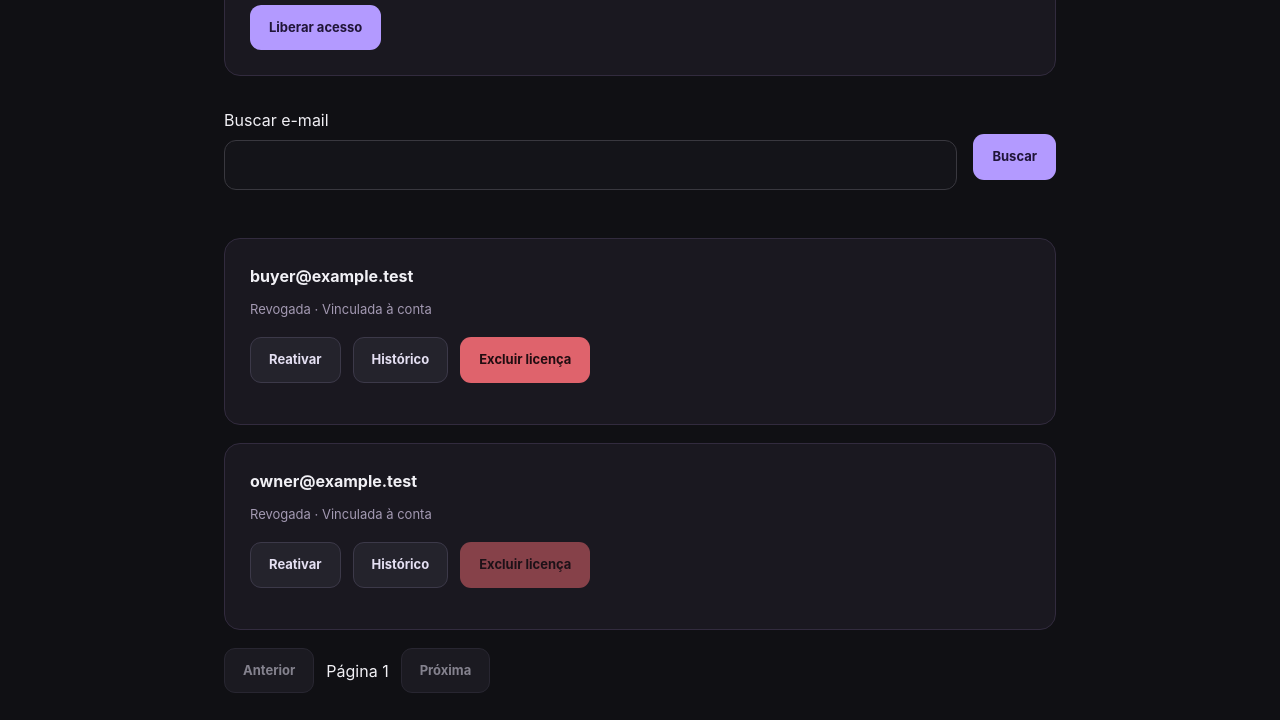
cancel does not delete and the administrator license cannot be selected
The image size is (1280, 720).
(page scrolled)
Click the button "Excluir licença" below "buyer@example.test" at (525,360), box [460,337,590,383]
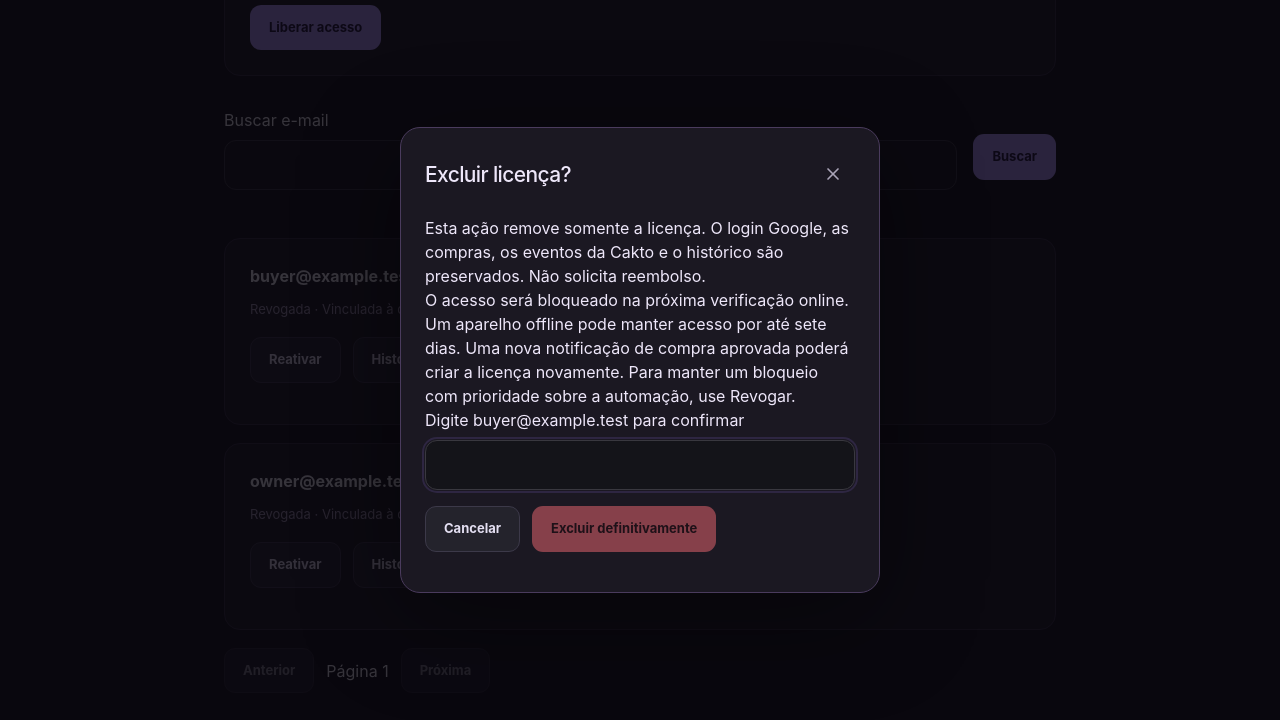
Click the button "Cancelar" at (472,529), box [425,506,520,552]
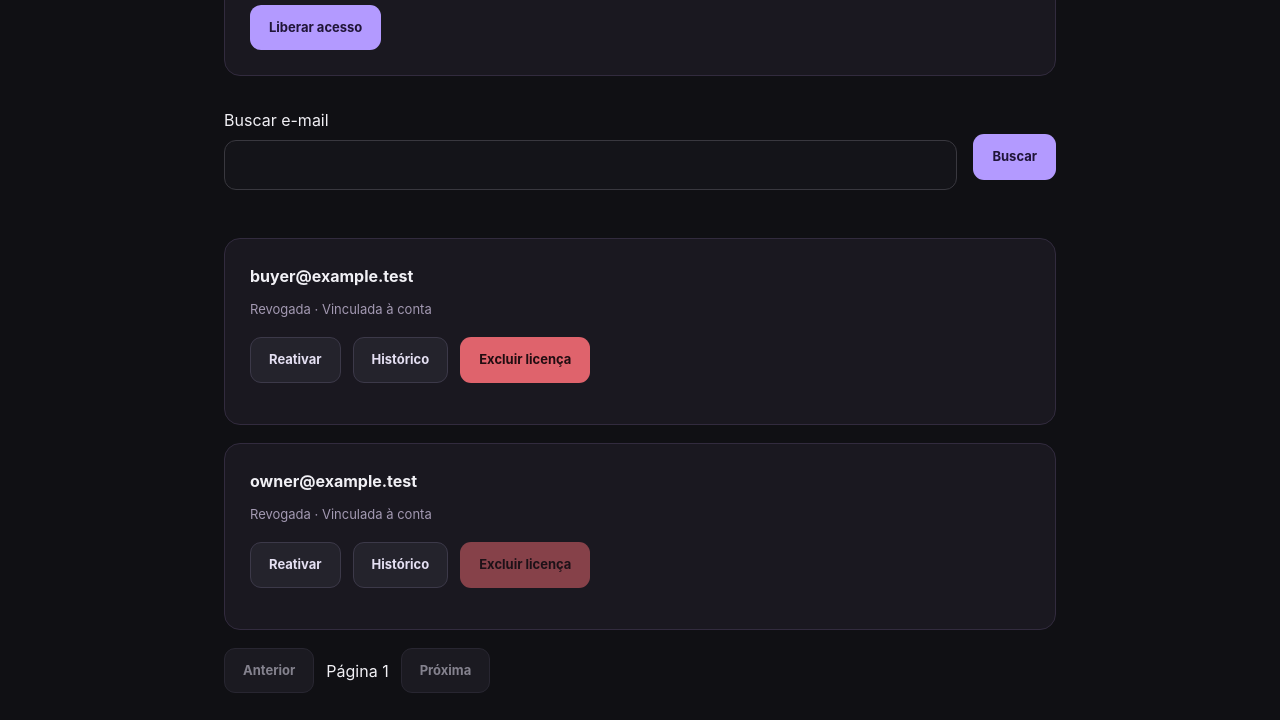
Check: the 2nd button "Excluir licença" is disabled, box [460,542,590,588]
Check: the dialog is gone
